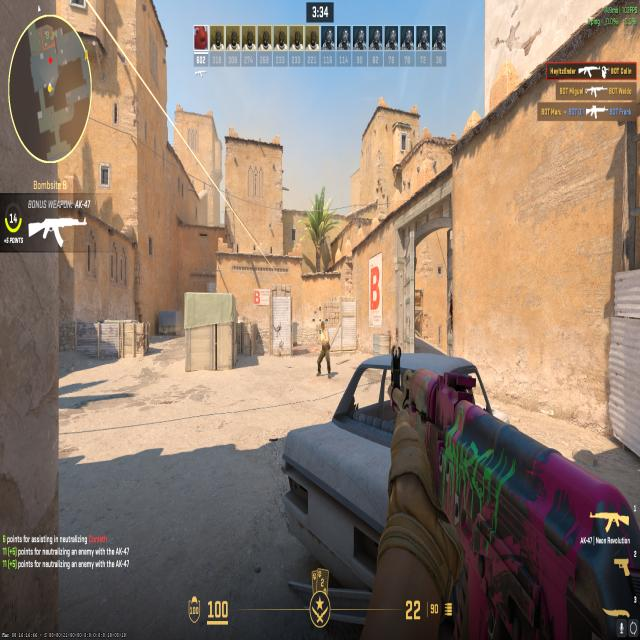t: (314, 314, 335, 381)
